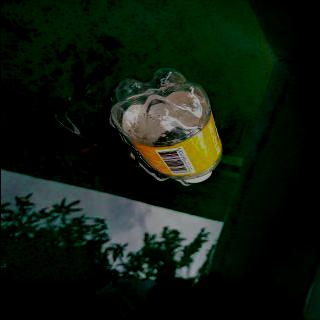bottle: (102, 65, 225, 186)
